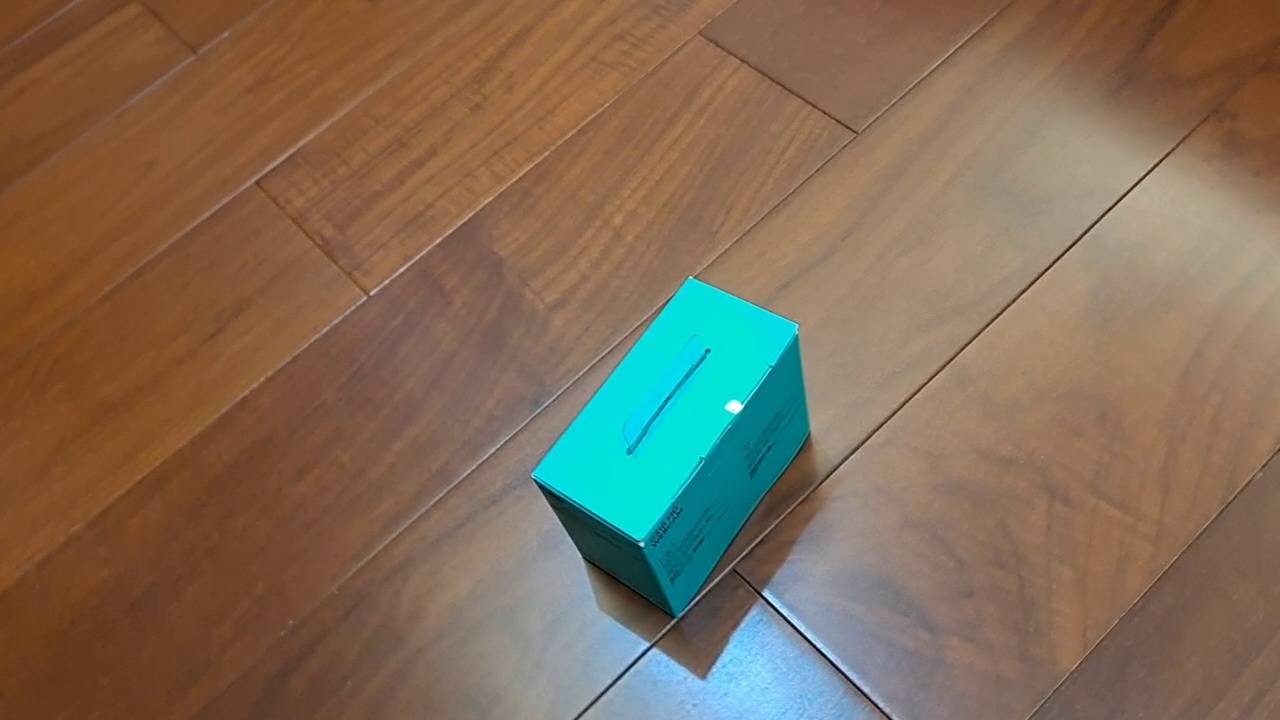webcam: (528, 273, 812, 621)
